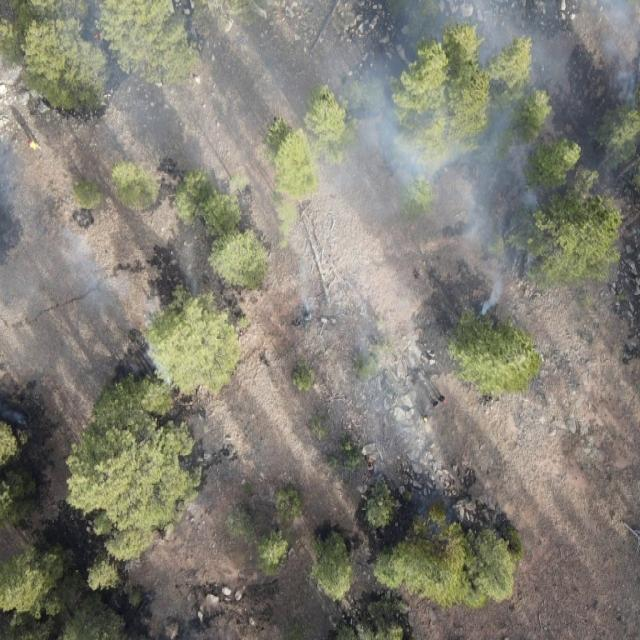fire: (90, 30, 104, 46)
smoke: (0, 0, 640, 162), (253, 152, 542, 322), (0, 166, 137, 357), (314, 324, 449, 485), (170, 236, 212, 300)
